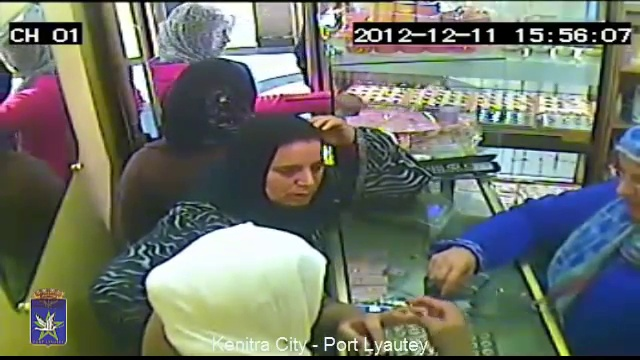face: (261, 142, 334, 208), (606, 145, 640, 214)
